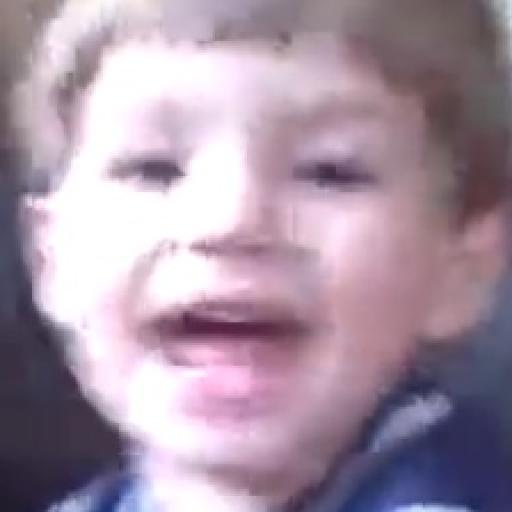Autism: (79, 32, 464, 444)
